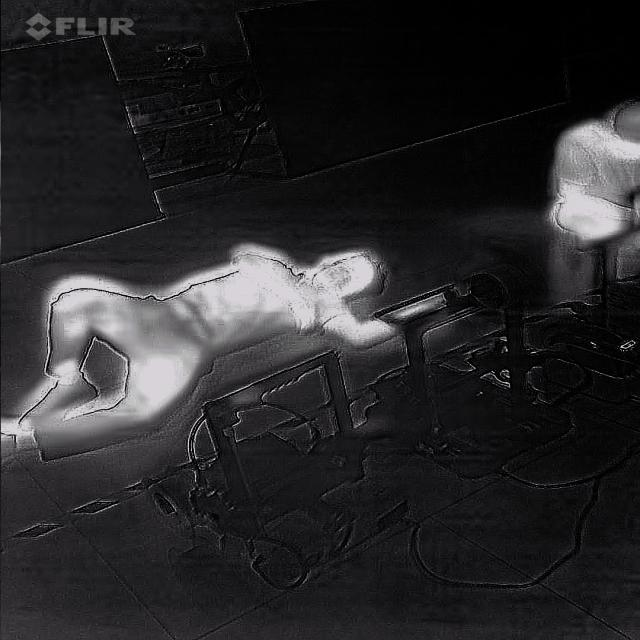Victim: (0, 234, 473, 478), (541, 80, 639, 254)
